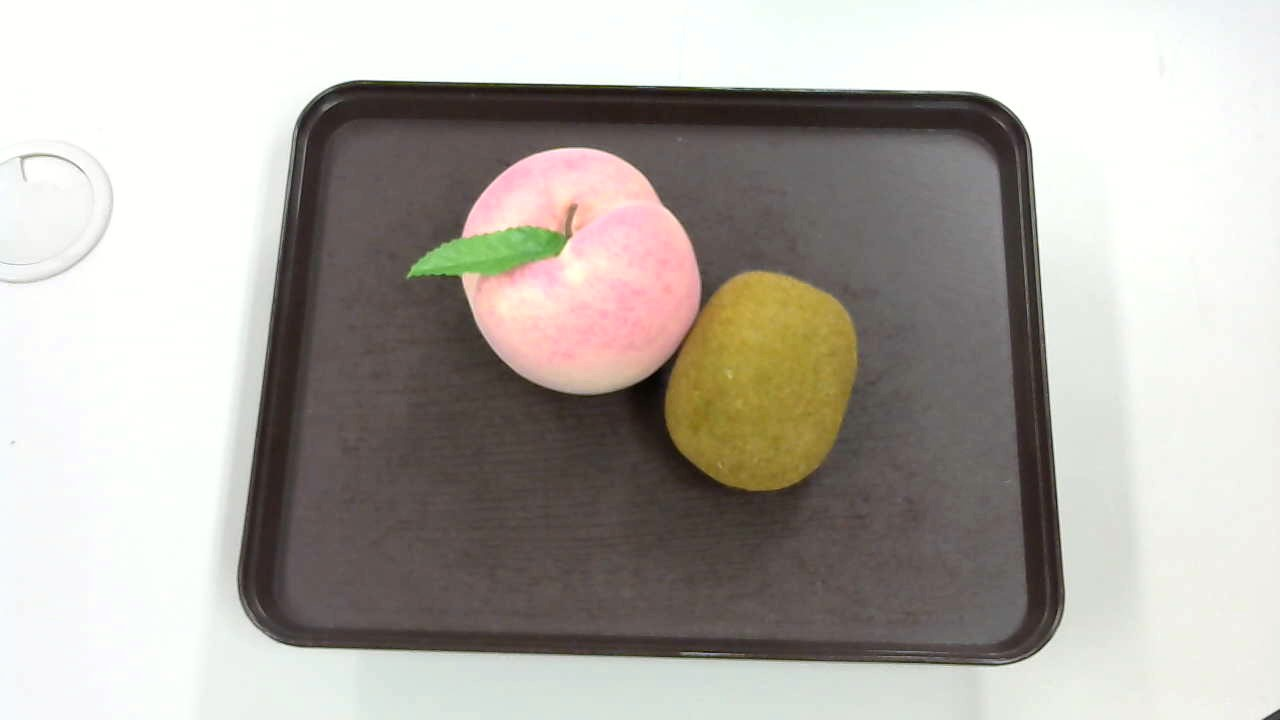kiwi fruit: (658, 270, 859, 491)
peach: (400, 148, 707, 400)
